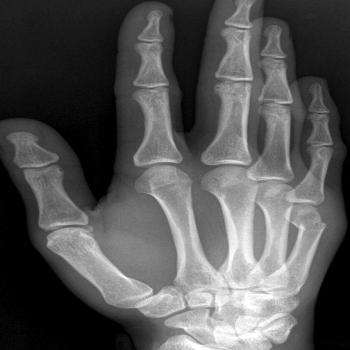Fracture: (293, 216, 335, 235)
